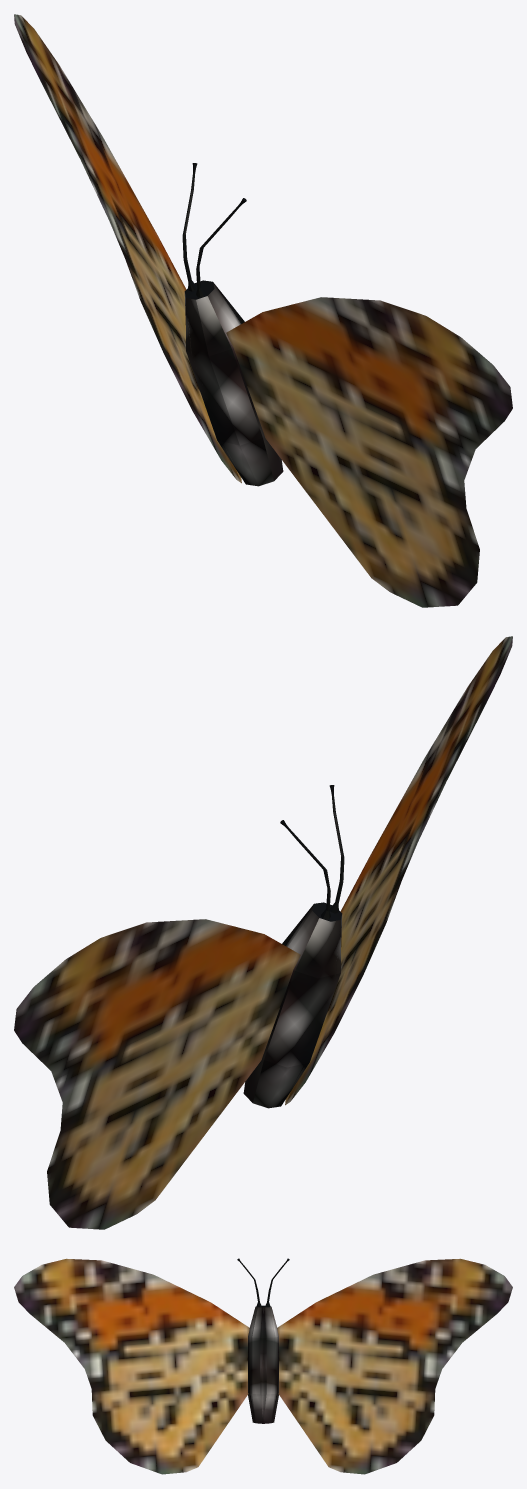
Rendered from EMPEROR NOSE BUTTERFLY.fbx.
3 views of the same model, one above another, from view 1: azimuth 30°, elevation 25°; view 2: azimuth 150°, elevation 25°; view 3: azimuth 270°, elevation 25° (orthographic). The views are drawn at different scales.
Visible parts, largest first — view 1: EMPEROR_NOSE_BUTTERFLY; view 2: EMPEROR_NOSE_BUTTERFLY; view 3: EMPEROR_NOSE_BUTTERFLY.
Part boxes in pixels (x1,y1,x2,y2): EMPEROR_NOSE_BUTTERFLY: (14,14,512,607); EMPEROR_NOSE_BUTTERFLY: (14,636,512,1229); EMPEROR_NOSE_BUTTERFLY: (14,1258,512,1474).
Size of the model in its own units: 1.4 by 3.7 by 8.65.
